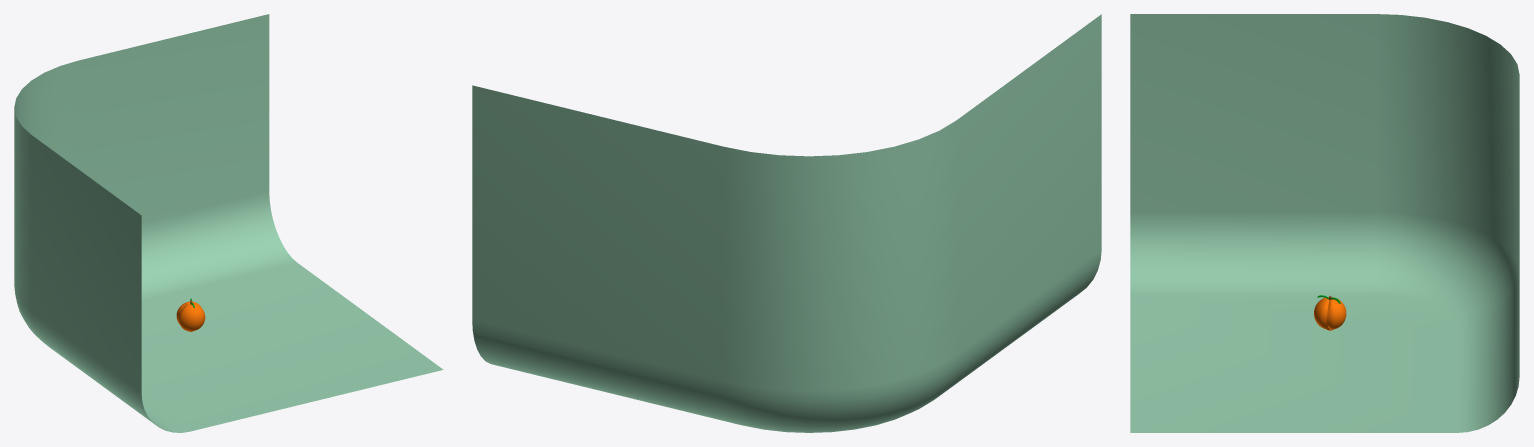
File: uploads_files_5458038_peachblend.fbx
3 renders of one model, left to right at view 1: azimuth 30°, elevation 25°; view 2: azimuth 150°, elevation 25°; view 3: azimuth 270°, elevation 25°, orthographic. The views are drawn at different scales.
Visible parts, largest first — view 1: Plane.002, Sphere; view 2: Plane.002; view 3: Plane.002, Sphere.
Part boxes in pixels (x1=…): Plane.002: x1=14, y1=14, x2=443, y2=432; Sphere: x1=176, y1=298, x2=205, y2=331; Plane.002: x1=472, y1=14, x2=1101, y2=432; Plane.002: x1=1130, y1=14, x2=1519, y2=432; Sphere: x1=1314, y1=295, x2=1346, y2=330.
Size of the model in its own units: 2305 by 1663 by 2305.
